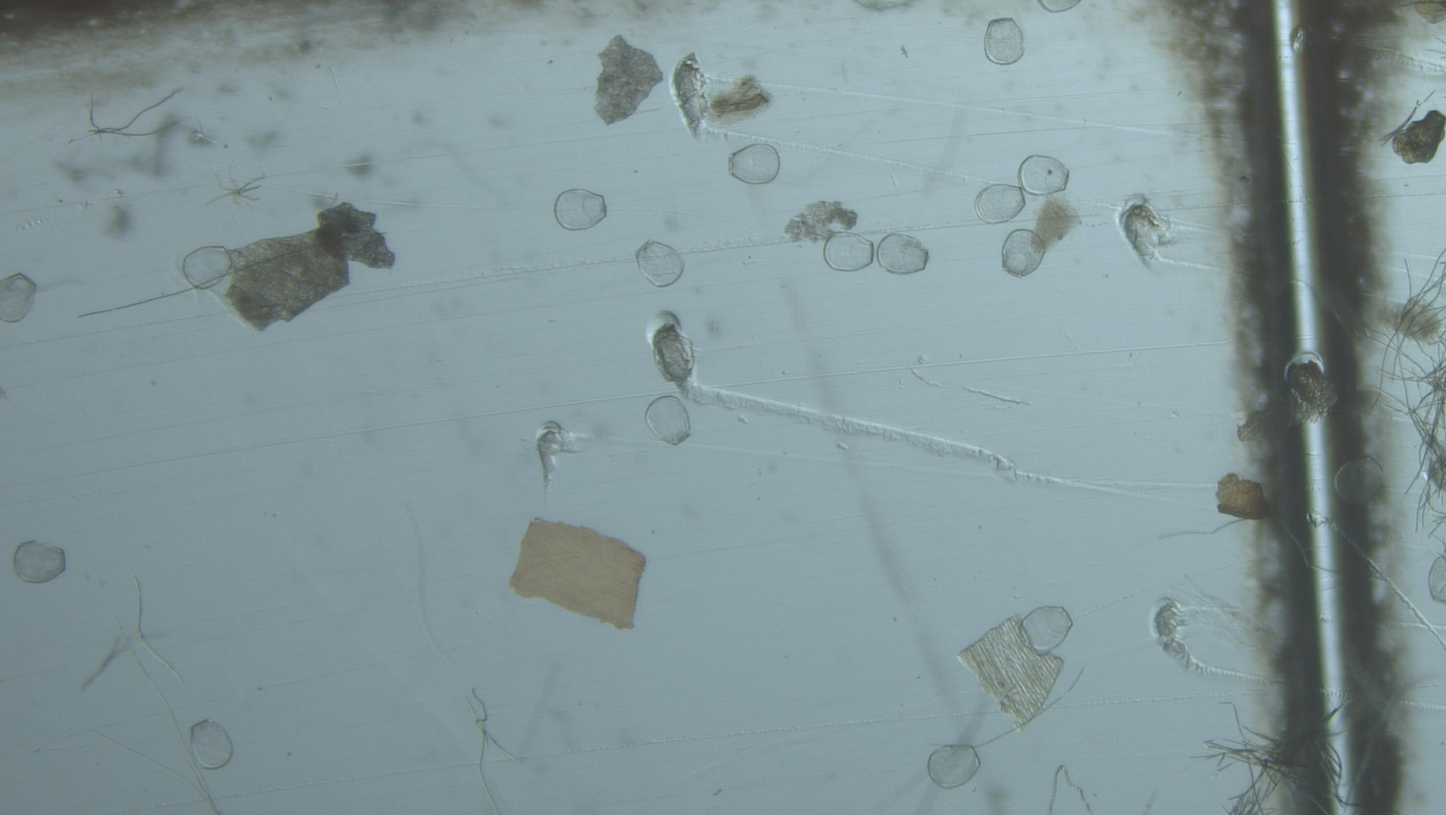dead: (1022, 606, 1073, 655), (645, 396, 691, 446), (928, 745, 980, 789), (13, 541, 66, 584), (636, 240, 684, 287), (877, 233, 929, 275), (554, 190, 607, 231), (1335, 456, 1382, 502), (1002, 229, 1045, 277), (190, 720, 232, 769), (1019, 155, 1069, 196), (729, 144, 780, 184), (975, 184, 1026, 224), (183, 247, 231, 289), (823, 233, 873, 272), (0, 274, 36, 323), (985, 19, 1023, 65), (1428, 553, 1446, 604), (1037, 0, 1081, 13)
